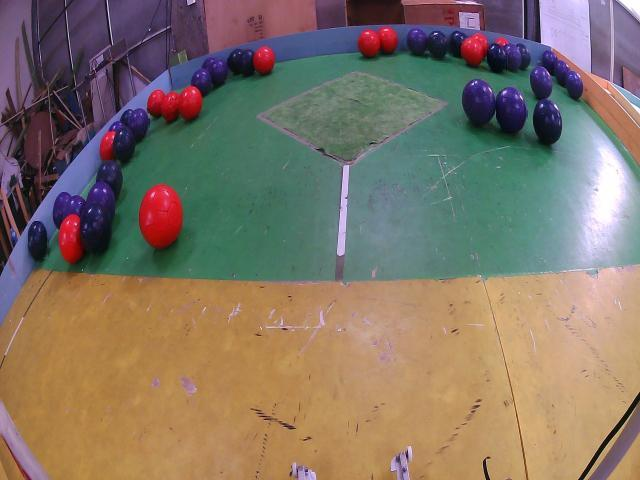jambhalya: (463, 80, 496, 126), (496, 87, 527, 133), (86, 180, 116, 219), (530, 65, 552, 100), (129, 108, 149, 140), (407, 28, 428, 55), (566, 70, 584, 100), (504, 43, 521, 72), (543, 50, 556, 75)
kaalyya: (80, 202, 111, 254), (533, 98, 562, 145), (97, 160, 122, 199), (113, 126, 136, 161), (28, 222, 48, 259), (487, 44, 507, 73), (209, 58, 229, 87), (192, 68, 212, 97), (429, 32, 449, 59), (450, 30, 467, 58), (516, 44, 531, 69)
